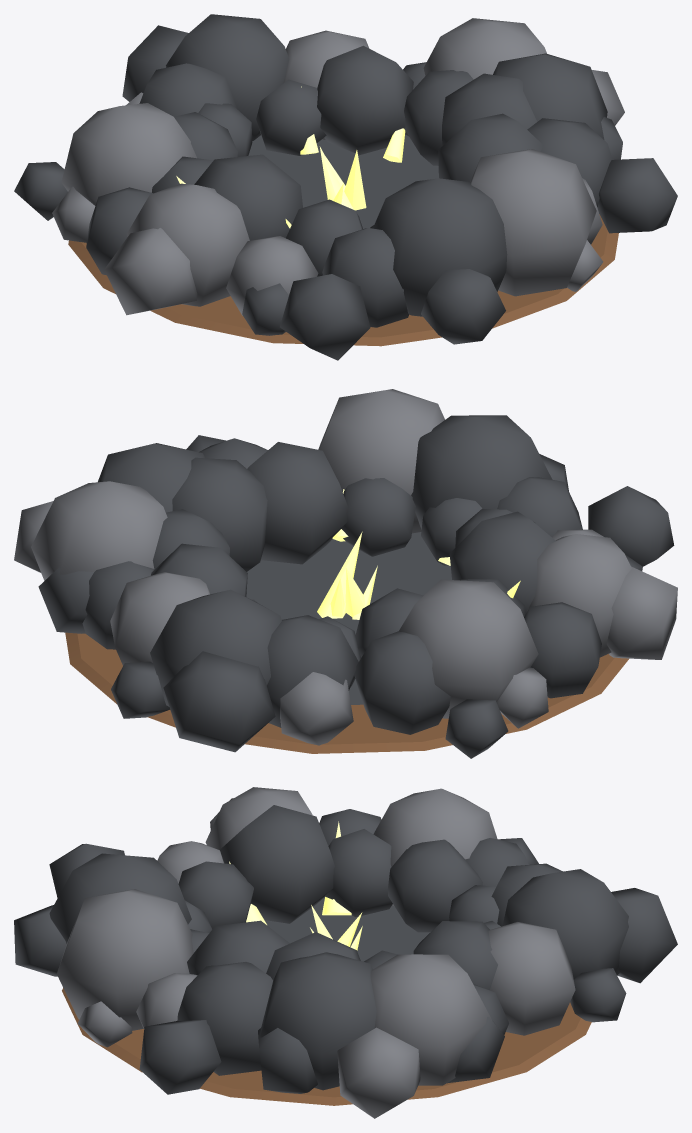
File: crater-emberfall.glb
3 views of the same model, one above another, from view 1: azimuth 30°, elevation 25°; view 2: azimuth 150°, elevation 25°; view 3: azimuth 270°, elevation 25° (orthographic). The views are drawn at different scales.
Visible parts, largest first — view 1: Mesh_RockDark_inst (×16), Mesh_Rock_inst (×6), Mesh_DebrisDark_inst (×6), Mesh_Debris_inst (×3), Mesh_DirtBase, Mesh_InnerDish, Mesh_RockDark_0, Mesh_Debris_0, Mesh_CrystalL_0, Mesh_CrystalL_inst, Mesh_DebrisDark_0, Mesh_CrystalS_inst; view 2: Mesh_RockDark_inst (×17), Mesh_Rock_inst (×5), Mesh_DebrisDark_inst (×5), Mesh_Debris_inst (×4), Mesh_InnerDish, Mesh_DirtBase, Mesh_RockDark_0, Mesh_CrystalL_0, Mesh_CrystalL_inst; view 3: Mesh_RockDark_inst (×15), Mesh_Rock_inst (×6), Mesh_DebrisDark_inst (×6), Mesh_RockDark_0, Mesh_DirtBase, Mesh_Debris_inst, Mesh_InnerDish, Mesh_DebrisDark_0, Mesh_Rock_0, Mesh_Debris_0.
Part boxes in pixels (left/top/right/bottom): Mesh_RockDark_inst (×16): left=86, top=14, right=612, bottom=327; Mesh_Rock_inst (×6): left=61, top=18, right=596, bottom=315; Mesh_DebrisDark_inst (×6): left=14, top=25, right=677, bottom=360; Mesh_Debris_inst (×3): left=52, top=70, right=624, bottom=315; Mesh_DirtBase: left=68, top=214, right=618, bottom=346; Mesh_InnerDish: left=248, top=134, right=438, bottom=228; Mesh_RockDark_0: left=493, top=53, right=607, bottom=139; Mesh_Debris_0: left=567, top=240, right=603, bottom=291; Mesh_CrystalL_0: left=344, top=150, right=366, bottom=210; Mesh_CrystalL_inst: left=319, top=146, right=353, bottom=209; Mesh_DebrisDark_0: left=601, top=117, right=622, bottom=159; Mesh_CrystalS_inst: left=383, top=128, right=405, bottom=162; Mesh_RockDark_inst (×17): left=82, top=415, right=601, bottom=734; Mesh_Rock_inst (×5): left=31, top=389, right=631, bottom=718; Mesh_DebrisDark_inst (×5): left=38, top=486, right=674, bottom=758; Mesh_Debris_inst (×4): left=14, top=501, right=677, bottom=745; Mesh_InnerDish: left=246, top=532, right=451, bottom=704; Mesh_DirtBase: left=65, top=632, right=628, bottom=753; Mesh_RockDark_0: left=98, top=443, right=204, bottom=512; Mesh_CrystalL_0: left=317, top=531, right=362, bottom=618; Mesh_CrystalL_inst: left=345, top=568, right=365, bottom=617; Mesh_RockDark_inst (×15): left=49, top=805, right=628, bottom=1075; Mesh_Rock_inst (×6): left=57, top=787, right=575, bottom=1085; Mesh_DebrisDark_inst (×6): left=14, top=843, right=677, bottom=1094; Mesh_RockDark_0: left=260, top=952, right=376, bottom=1090; Mesh_DirtBase: left=62, top=988, right=591, bottom=1105; Mesh_Debris_inst: left=337, top=1027, right=420, bottom=1118; Mesh_InnerDish: left=264, top=897, right=430, bottom=961; Mesh_DebrisDark_0: left=258, top=1027, right=317, bottom=1093; Mesh_Rock_0: left=136, top=973, right=197, bottom=1028; Mesh_Debris_0: left=77, top=1001, right=132, bottom=1047.
Size of the model in its own units: 5.8 by 1.41 by 6.09.
Materials: 3 (3 with a texture image).
